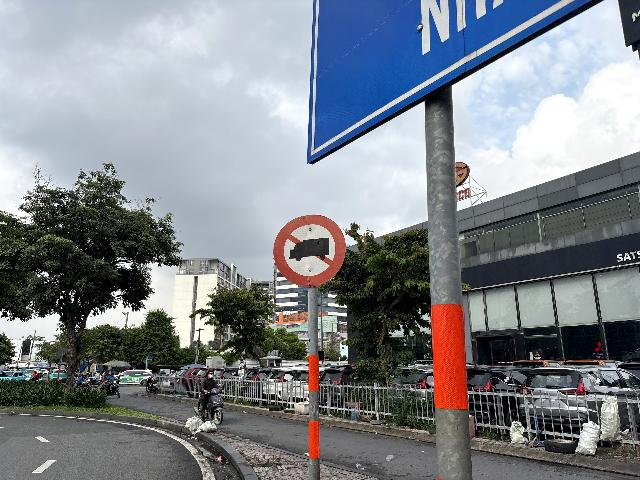cam-xe-tai: (273, 215, 346, 287)
